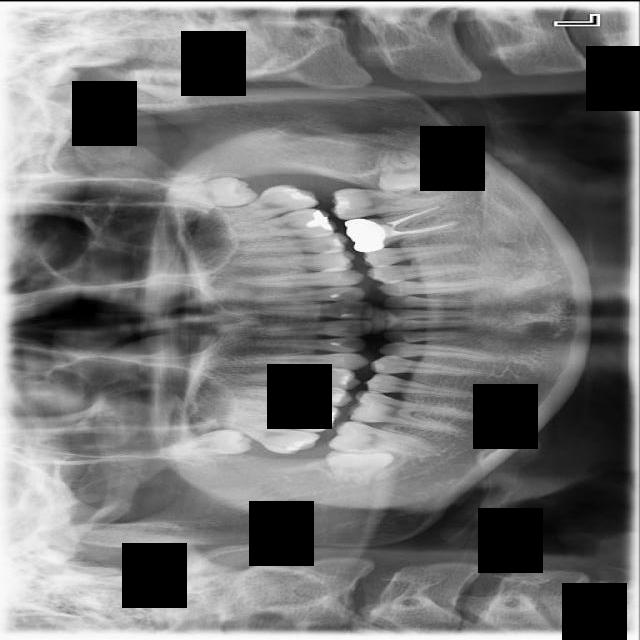3M ESPE Implant: (157, 426, 253, 461)
52: (322, 405, 380, 462), (258, 419, 323, 462), (343, 208, 397, 257), (260, 175, 321, 217), (345, 382, 395, 432), (283, 205, 338, 241), (285, 404, 340, 431), (309, 384, 353, 408), (307, 231, 349, 254), (319, 367, 360, 389), (330, 300, 374, 318), (326, 285, 366, 300), (326, 337, 365, 351)
73: (380, 198, 461, 244), (578, 28, 584, 38)
BioHorizons Implant: (211, 175, 319, 230)
BioLife Implant: (167, 176, 258, 207)
Biomet 3i Implant: (378, 149, 450, 194)
Blue Sky Bio Implant: (332, 184, 452, 219)
Caries: (216, 410, 321, 462)
Implant: (328, 418, 440, 458)
Keystone Dental Implant: (325, 447, 395, 487)
